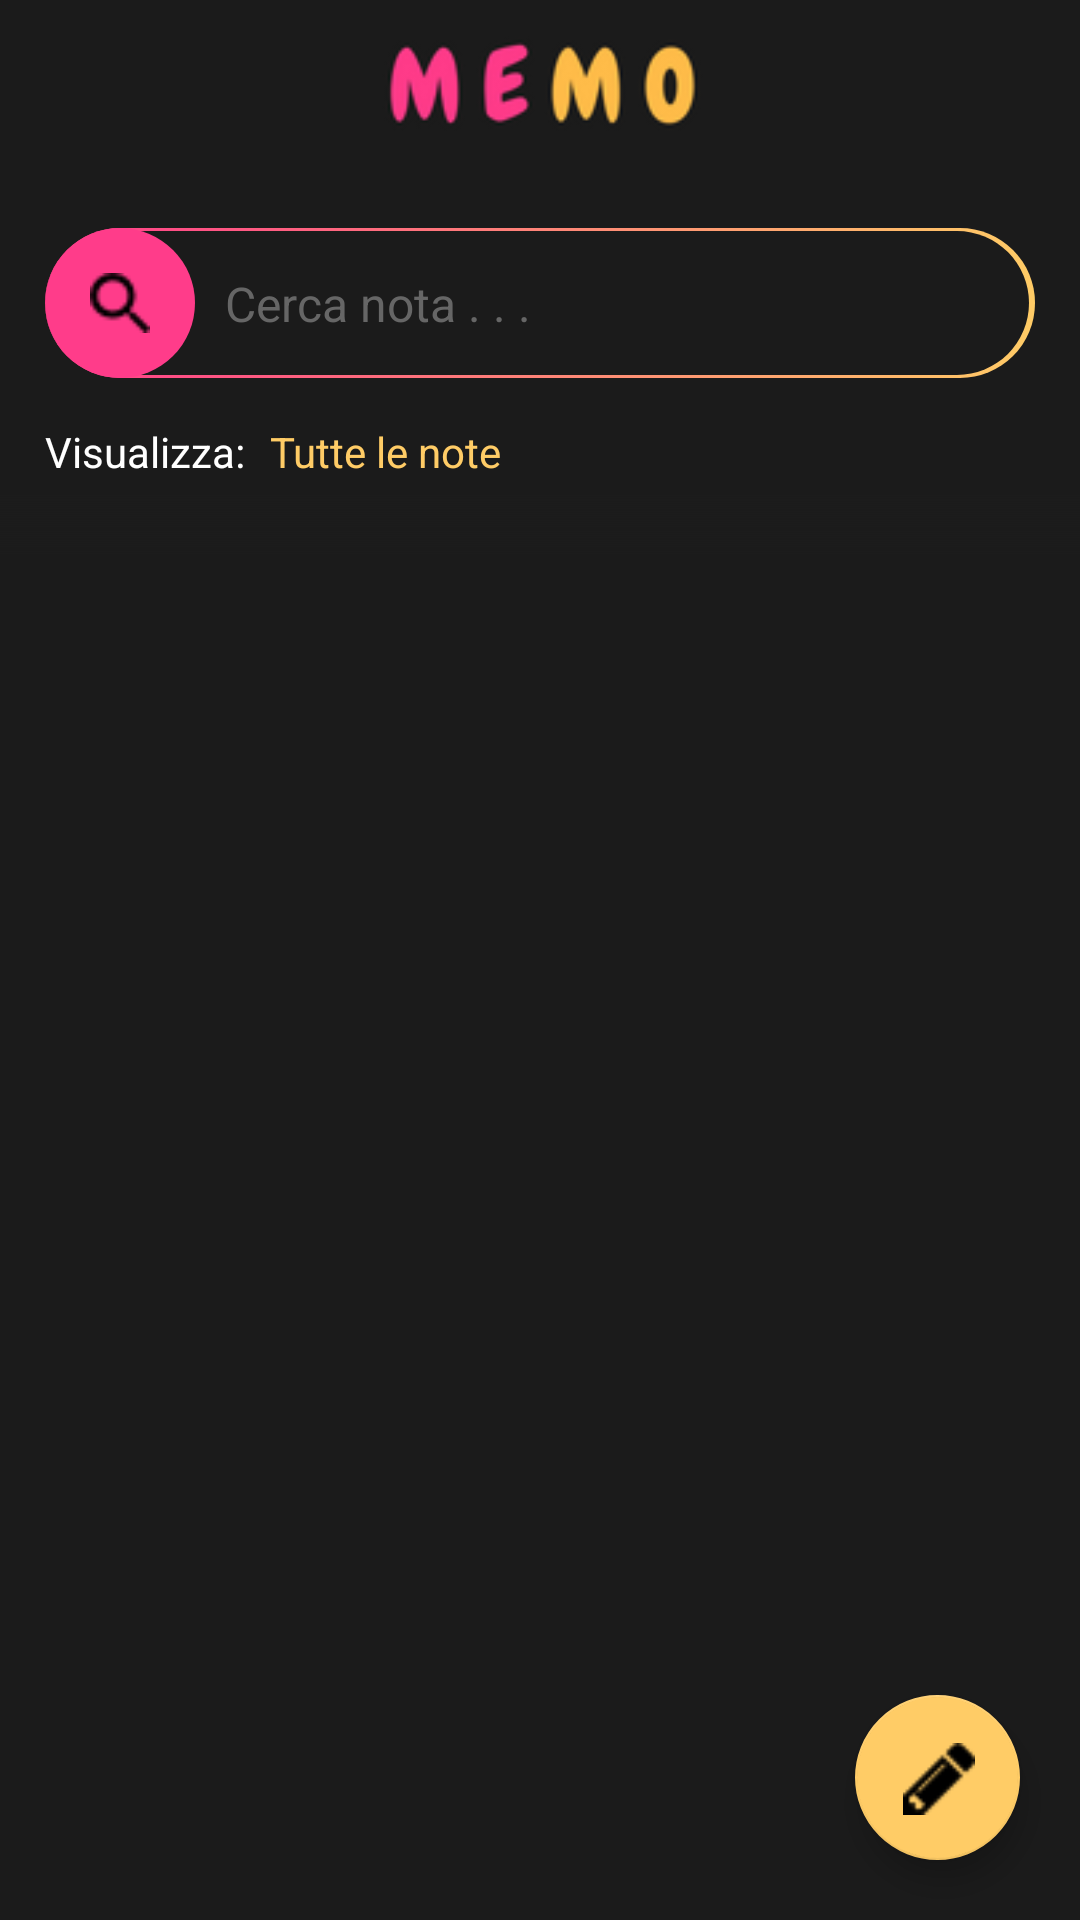

Where icons sit on this 1080 × 1920 app screen, as (x1, y1, x2, y2):
pencil: (855, 1695, 1020, 1860)
search: (90, 273, 150, 333)
